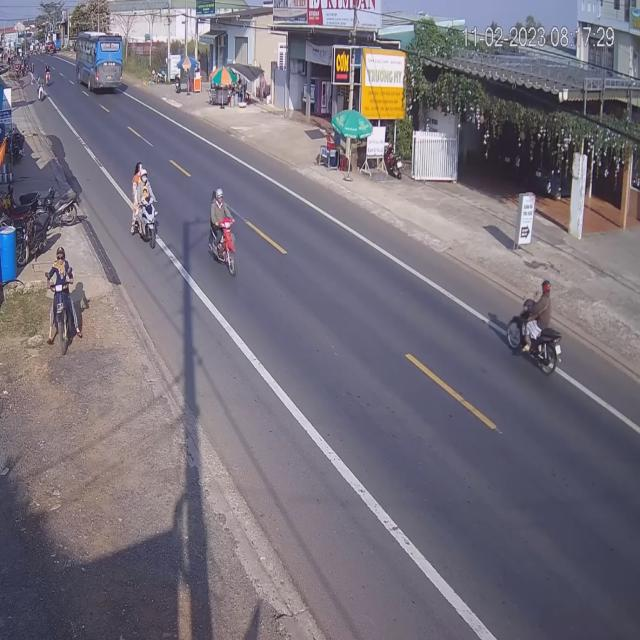bus: (75, 31, 126, 97)
motorbike: (508, 280, 565, 382), (208, 186, 237, 277), (130, 163, 160, 250), (39, 69, 47, 103), (44, 66, 52, 90)
